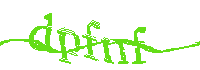d: (29, 12, 53, 51)
f: (130, 21, 149, 65), (82, 17, 100, 62)
n: (99, 36, 130, 65)
p: (57, 28, 81, 65)
